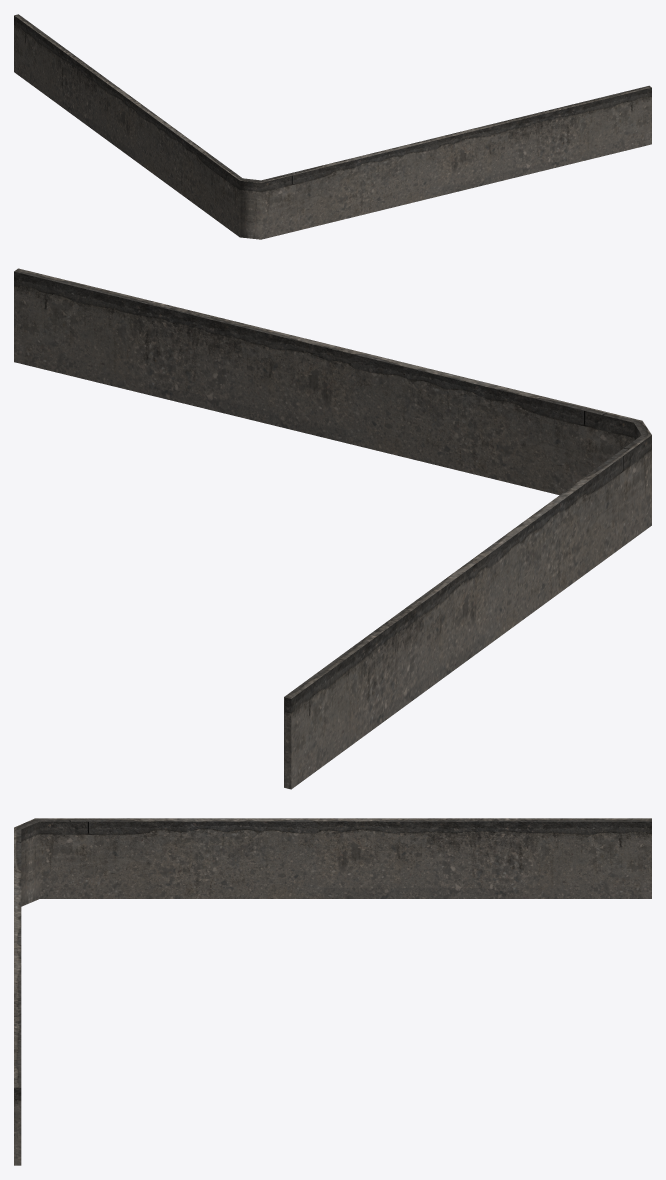
Rendered from FloorBottomConcrete_Corner.fbx.
The picture shows the model from 3 angles, top to bottom: view 1: azimuth 30°, elevation 25°; view 2: azimuth 150°, elevation 25°; view 3: azimuth 270°, elevation 25°; orthographic projection. The views are drawn at different scales.
Parts seen in each view (by area): view 1: FloorBottomConcrete_Corner; view 2: FloorBottomConcrete_Corner; view 3: FloorBottomConcrete_Corner.
Boxes of the visible parts, left/top/right/bottom form: FloorBottomConcrete_Corner: left=14, top=14, right=651, bottom=239; FloorBottomConcrete_Corner: left=14, top=268, right=651, bottom=789; FloorBottomConcrete_Corner: left=14, top=818, right=651, bottom=1165.
Bounding box in the file's own units: 159 × 21.35 × 159.
